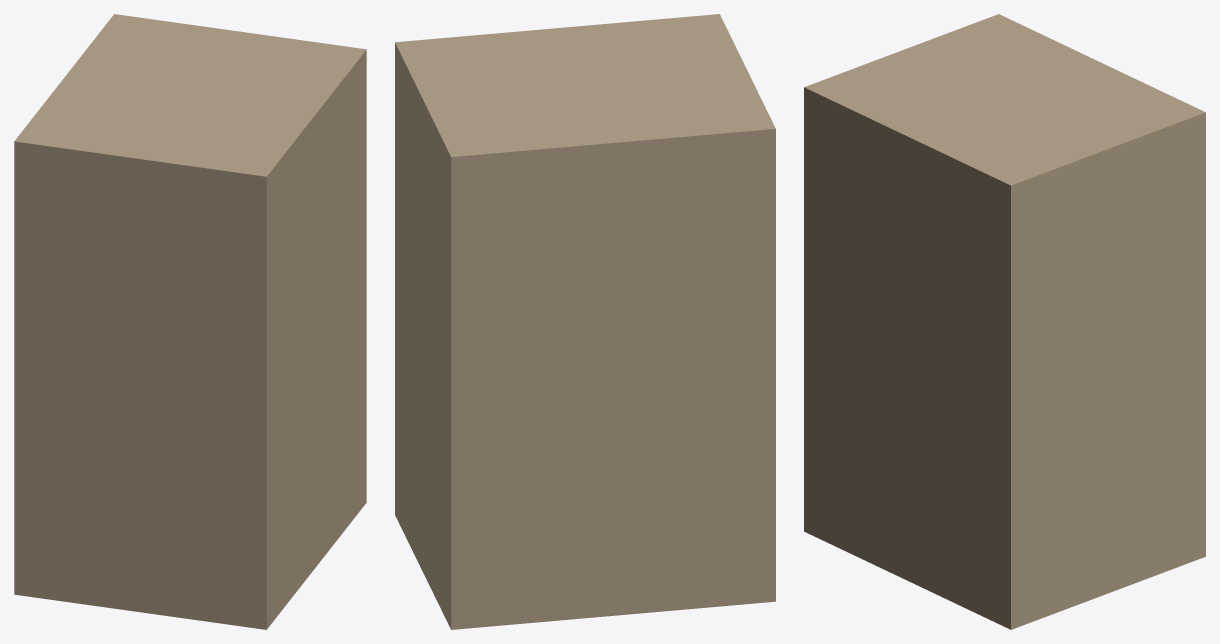
The model's file is bld_99623188.dae.
3 views of the same model, side by side, from view 1: azimuth 30°, elevation 25°; view 2: azimuth 150°, elevation 25°; view 3: azimuth 270°, elevation 25° (orthographic). The views are drawn at different scales.
Visible parts, largest first — view 1: bld_99623188; view 2: bld_99623188; view 3: bld_99623188.
Part boxes in pixels (left/top/right/bottom): bld_99623188: left=14, top=14, right=366, bottom=629; bld_99623188: left=395, top=14, right=775, bottom=629; bld_99623188: left=804, top=14, right=1205, bottom=629.
Bounding box in the file's own units: 6.63 × 6.56 × 8.
